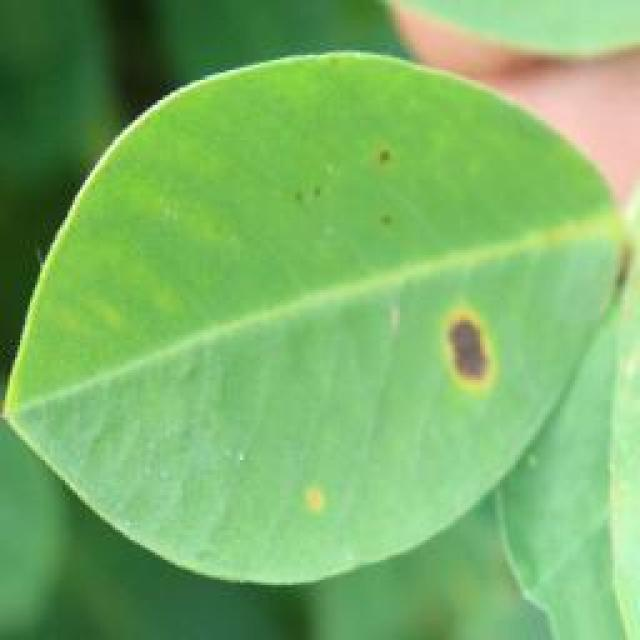Early_leaf_spot: (431, 299, 513, 417), (349, 114, 419, 232), (294, 456, 357, 540)
